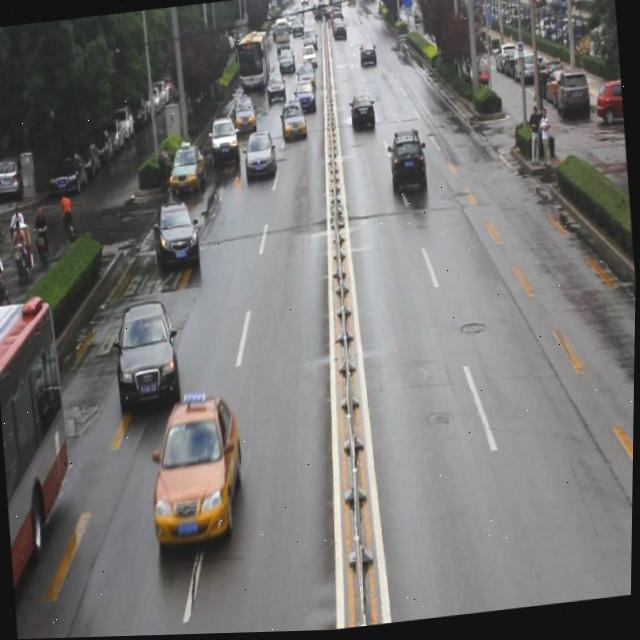car: (145, 386, 250, 545), (111, 299, 183, 410), (152, 200, 202, 270), (384, 129, 428, 197), (168, 140, 208, 196), (241, 132, 278, 181), (208, 114, 240, 166), (278, 101, 307, 142), (348, 95, 376, 133), (230, 96, 257, 135), (293, 83, 316, 115)
van: (0, 293, 83, 603)
